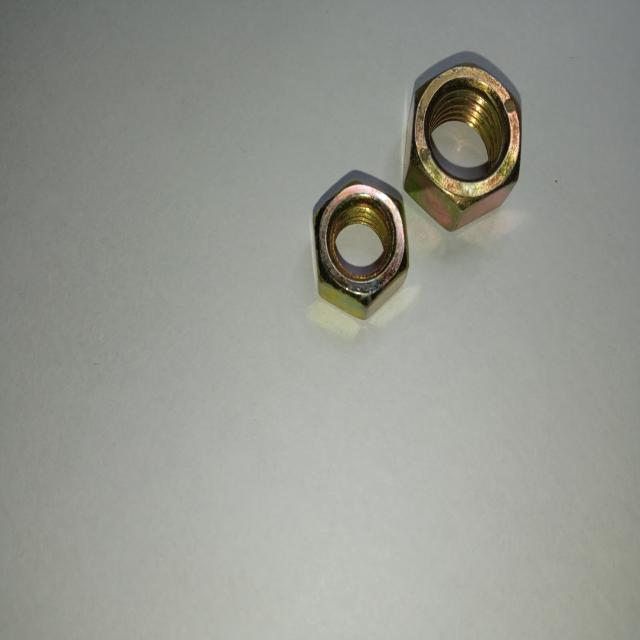m10: (419, 64, 523, 216)
m8: (312, 178, 408, 317)
